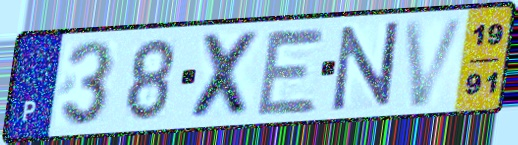3: (52, 37, 121, 130)
8: (123, 36, 178, 123)
E: (253, 26, 330, 118)
N: (330, 18, 402, 114)
V: (401, 13, 471, 110)
X: (186, 29, 264, 121)
